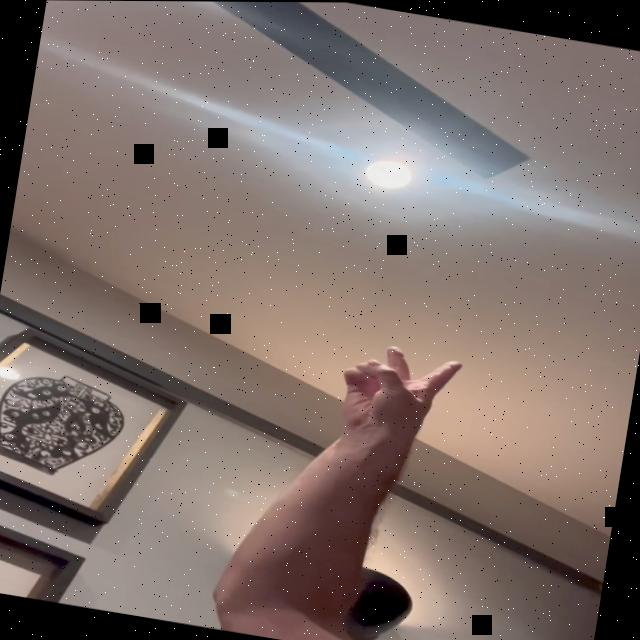Scissors: (334, 337, 466, 439)
